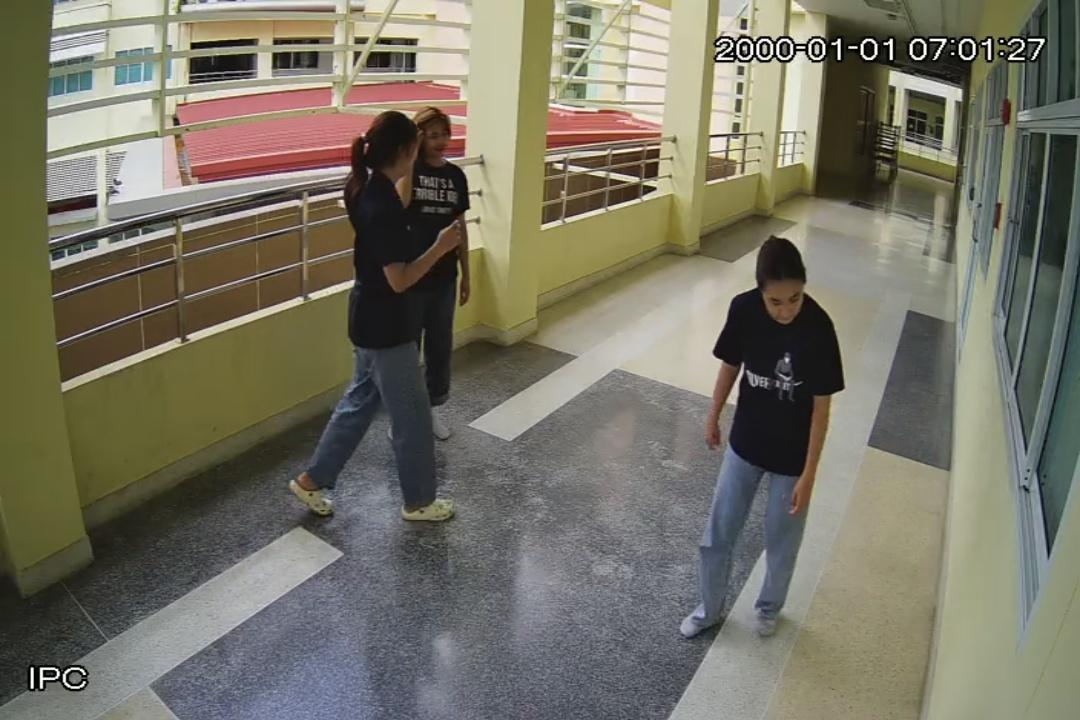normal: (290, 115, 443, 526), (683, 237, 839, 635), (383, 102, 470, 442)
